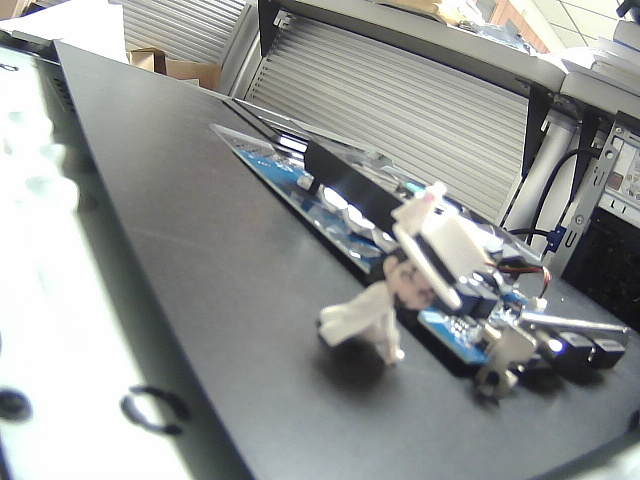lucci: (304, 174, 495, 391)
